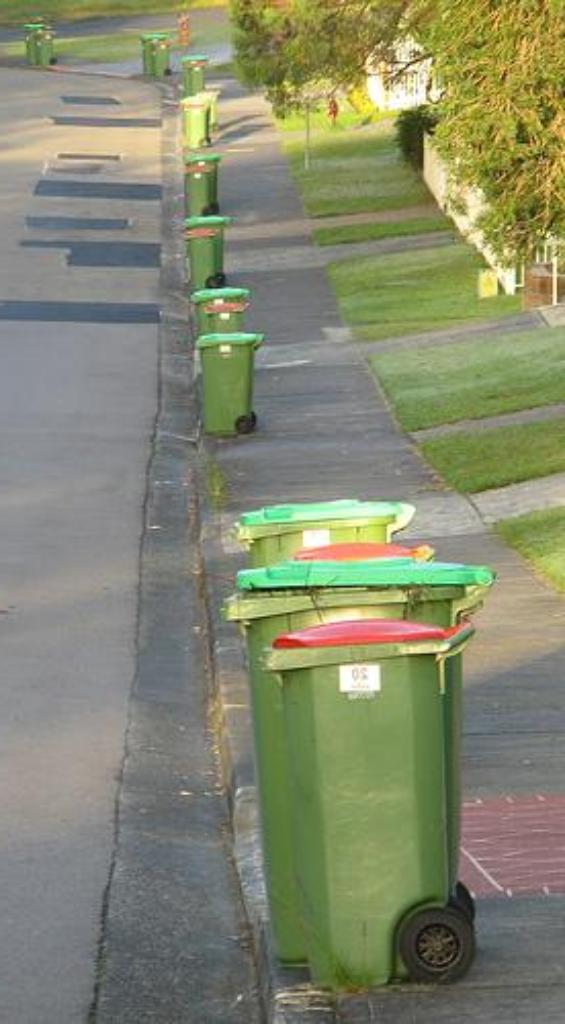dustbin: (227, 529, 490, 1014), (182, 324, 269, 456), (178, 206, 230, 295), (171, 86, 218, 163), (177, 151, 222, 220), (138, 24, 173, 82), (25, 14, 54, 67)
